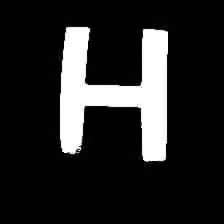LTR_H: (39, 10, 174, 173)
